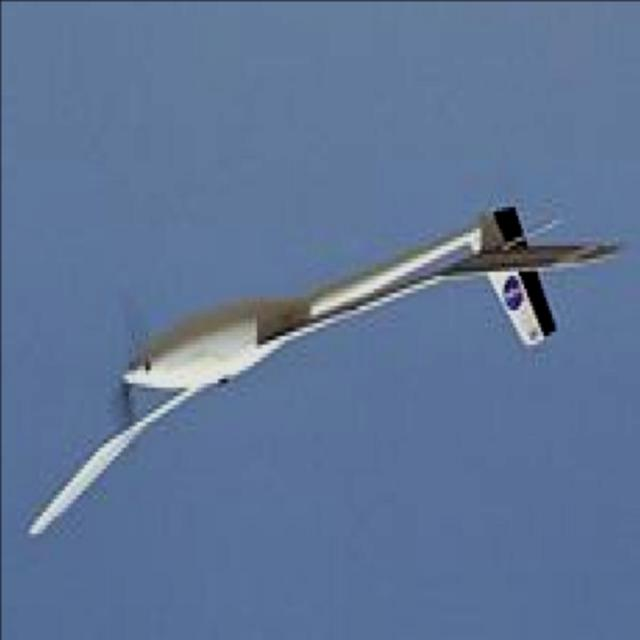plane: (25, 202, 622, 539)
